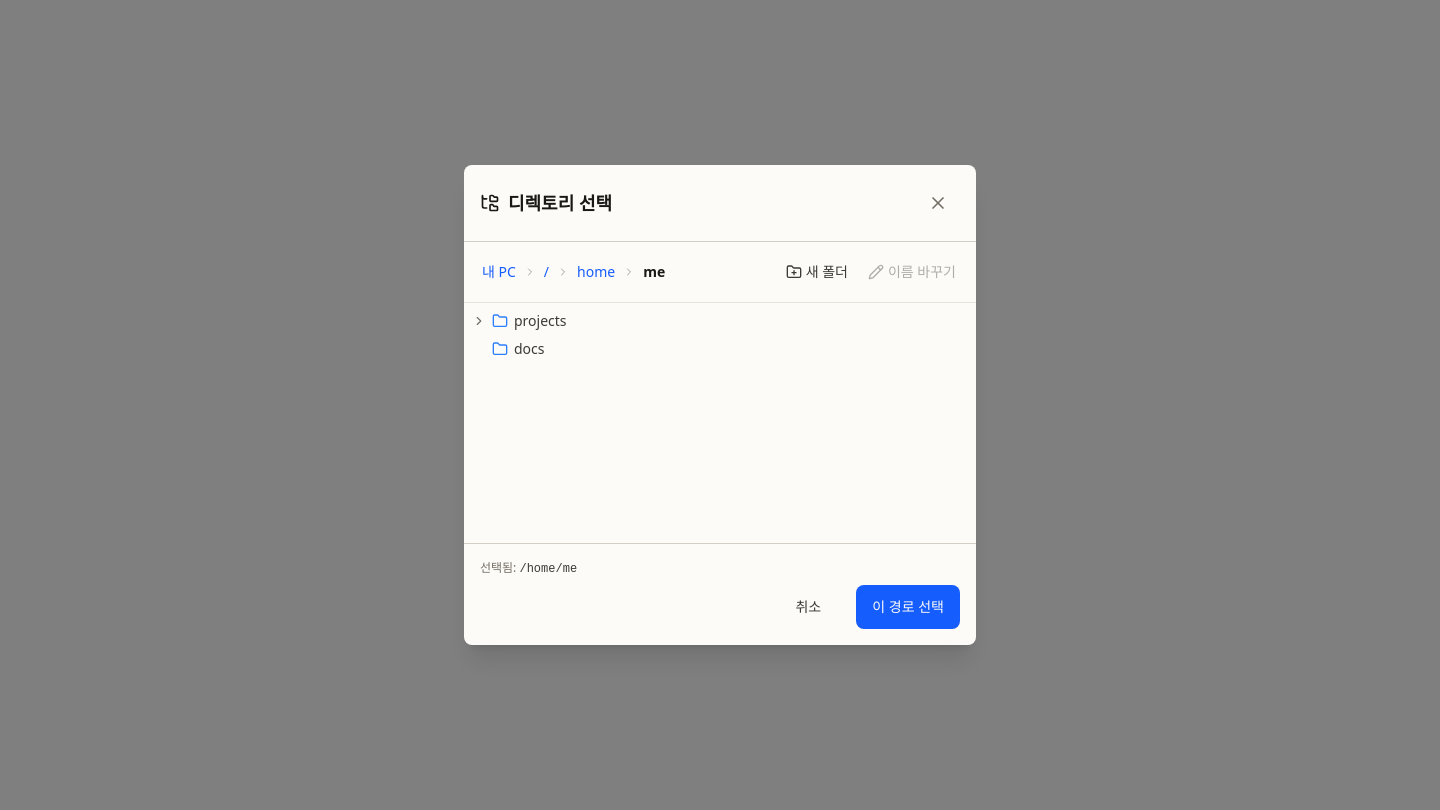
Test: DirectoryBrowserDialog › switches to the drive-roots view when My PC is clicked
Expected: the text "projects" is shown, [514,311,567,331]
What coordinates should you click on to do the following:
click the button "내 PC"
I would click on:
 (499, 272)
Its box is [476,260,522,284].
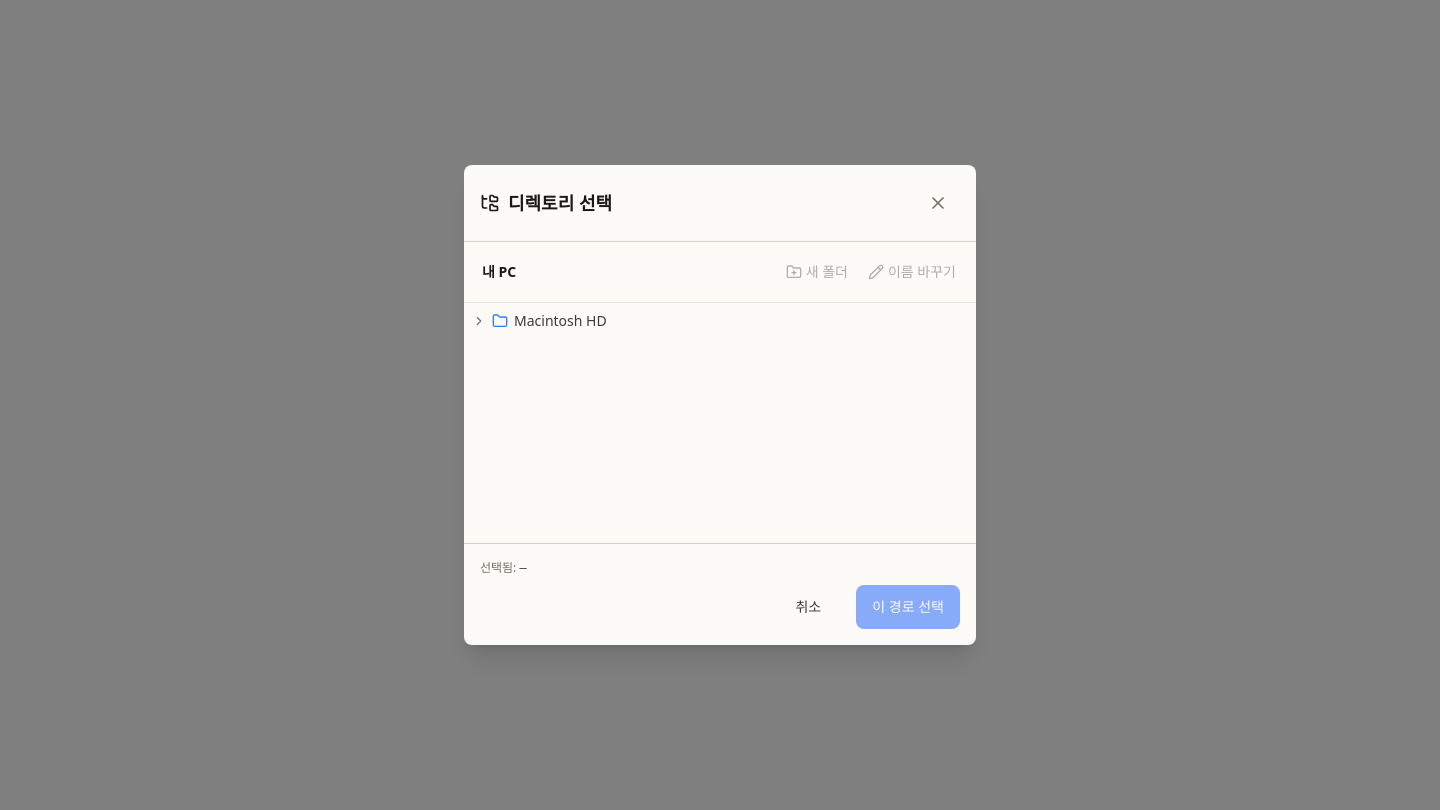
Now the text "Macintosh HD" is shown, box [514,311,607,331]
